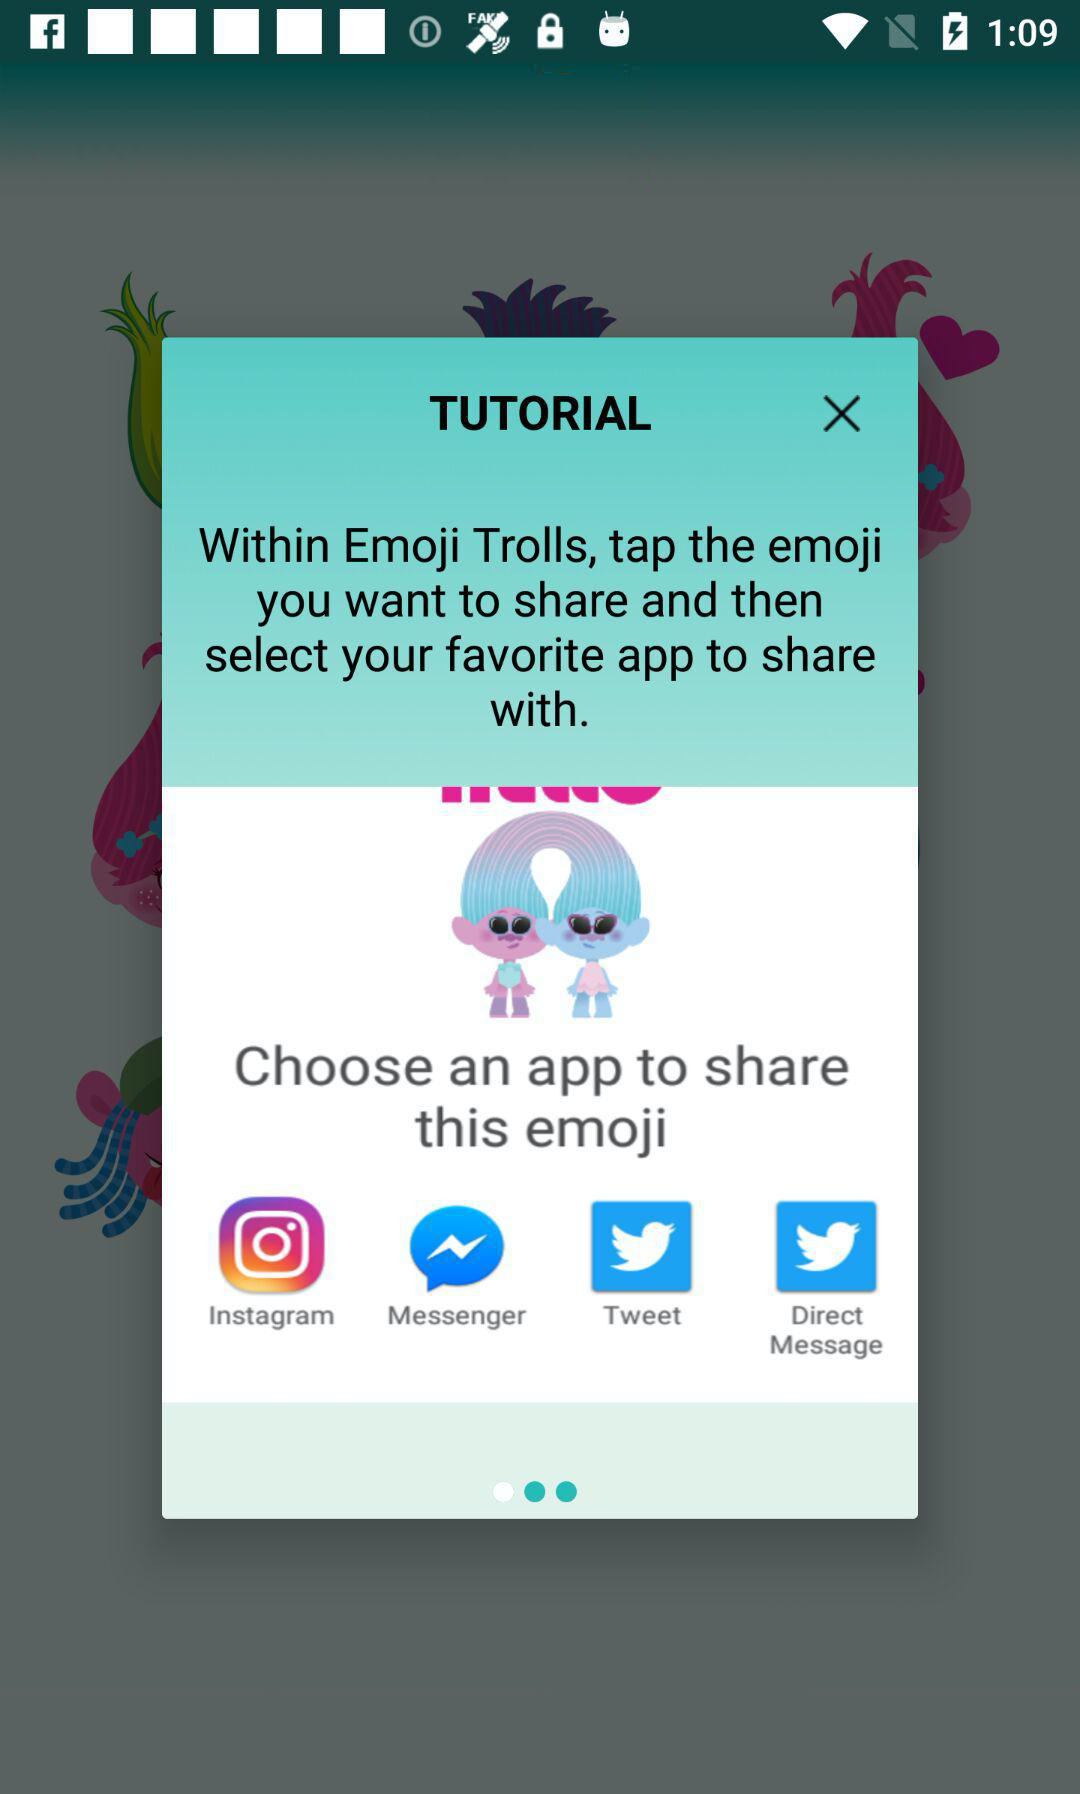Icon: (591, 1199, 693, 1293), (776, 1199, 878, 1293), (822, 395, 861, 434)
Image: (441, 786, 659, 1020), (218, 1196, 327, 1296), (409, 1205, 506, 1293)
Modal: (161, 337, 919, 1520)
PageIndicator: (492, 1479, 579, 1504)
Text: (199, 525, 881, 729), (234, 1043, 849, 1158), (429, 395, 653, 432), (769, 1304, 885, 1360), (388, 1304, 528, 1331), (209, 1304, 336, 1331), (602, 1304, 684, 1326)
UpperTaskBar: (1, 1, 1080, 64)
